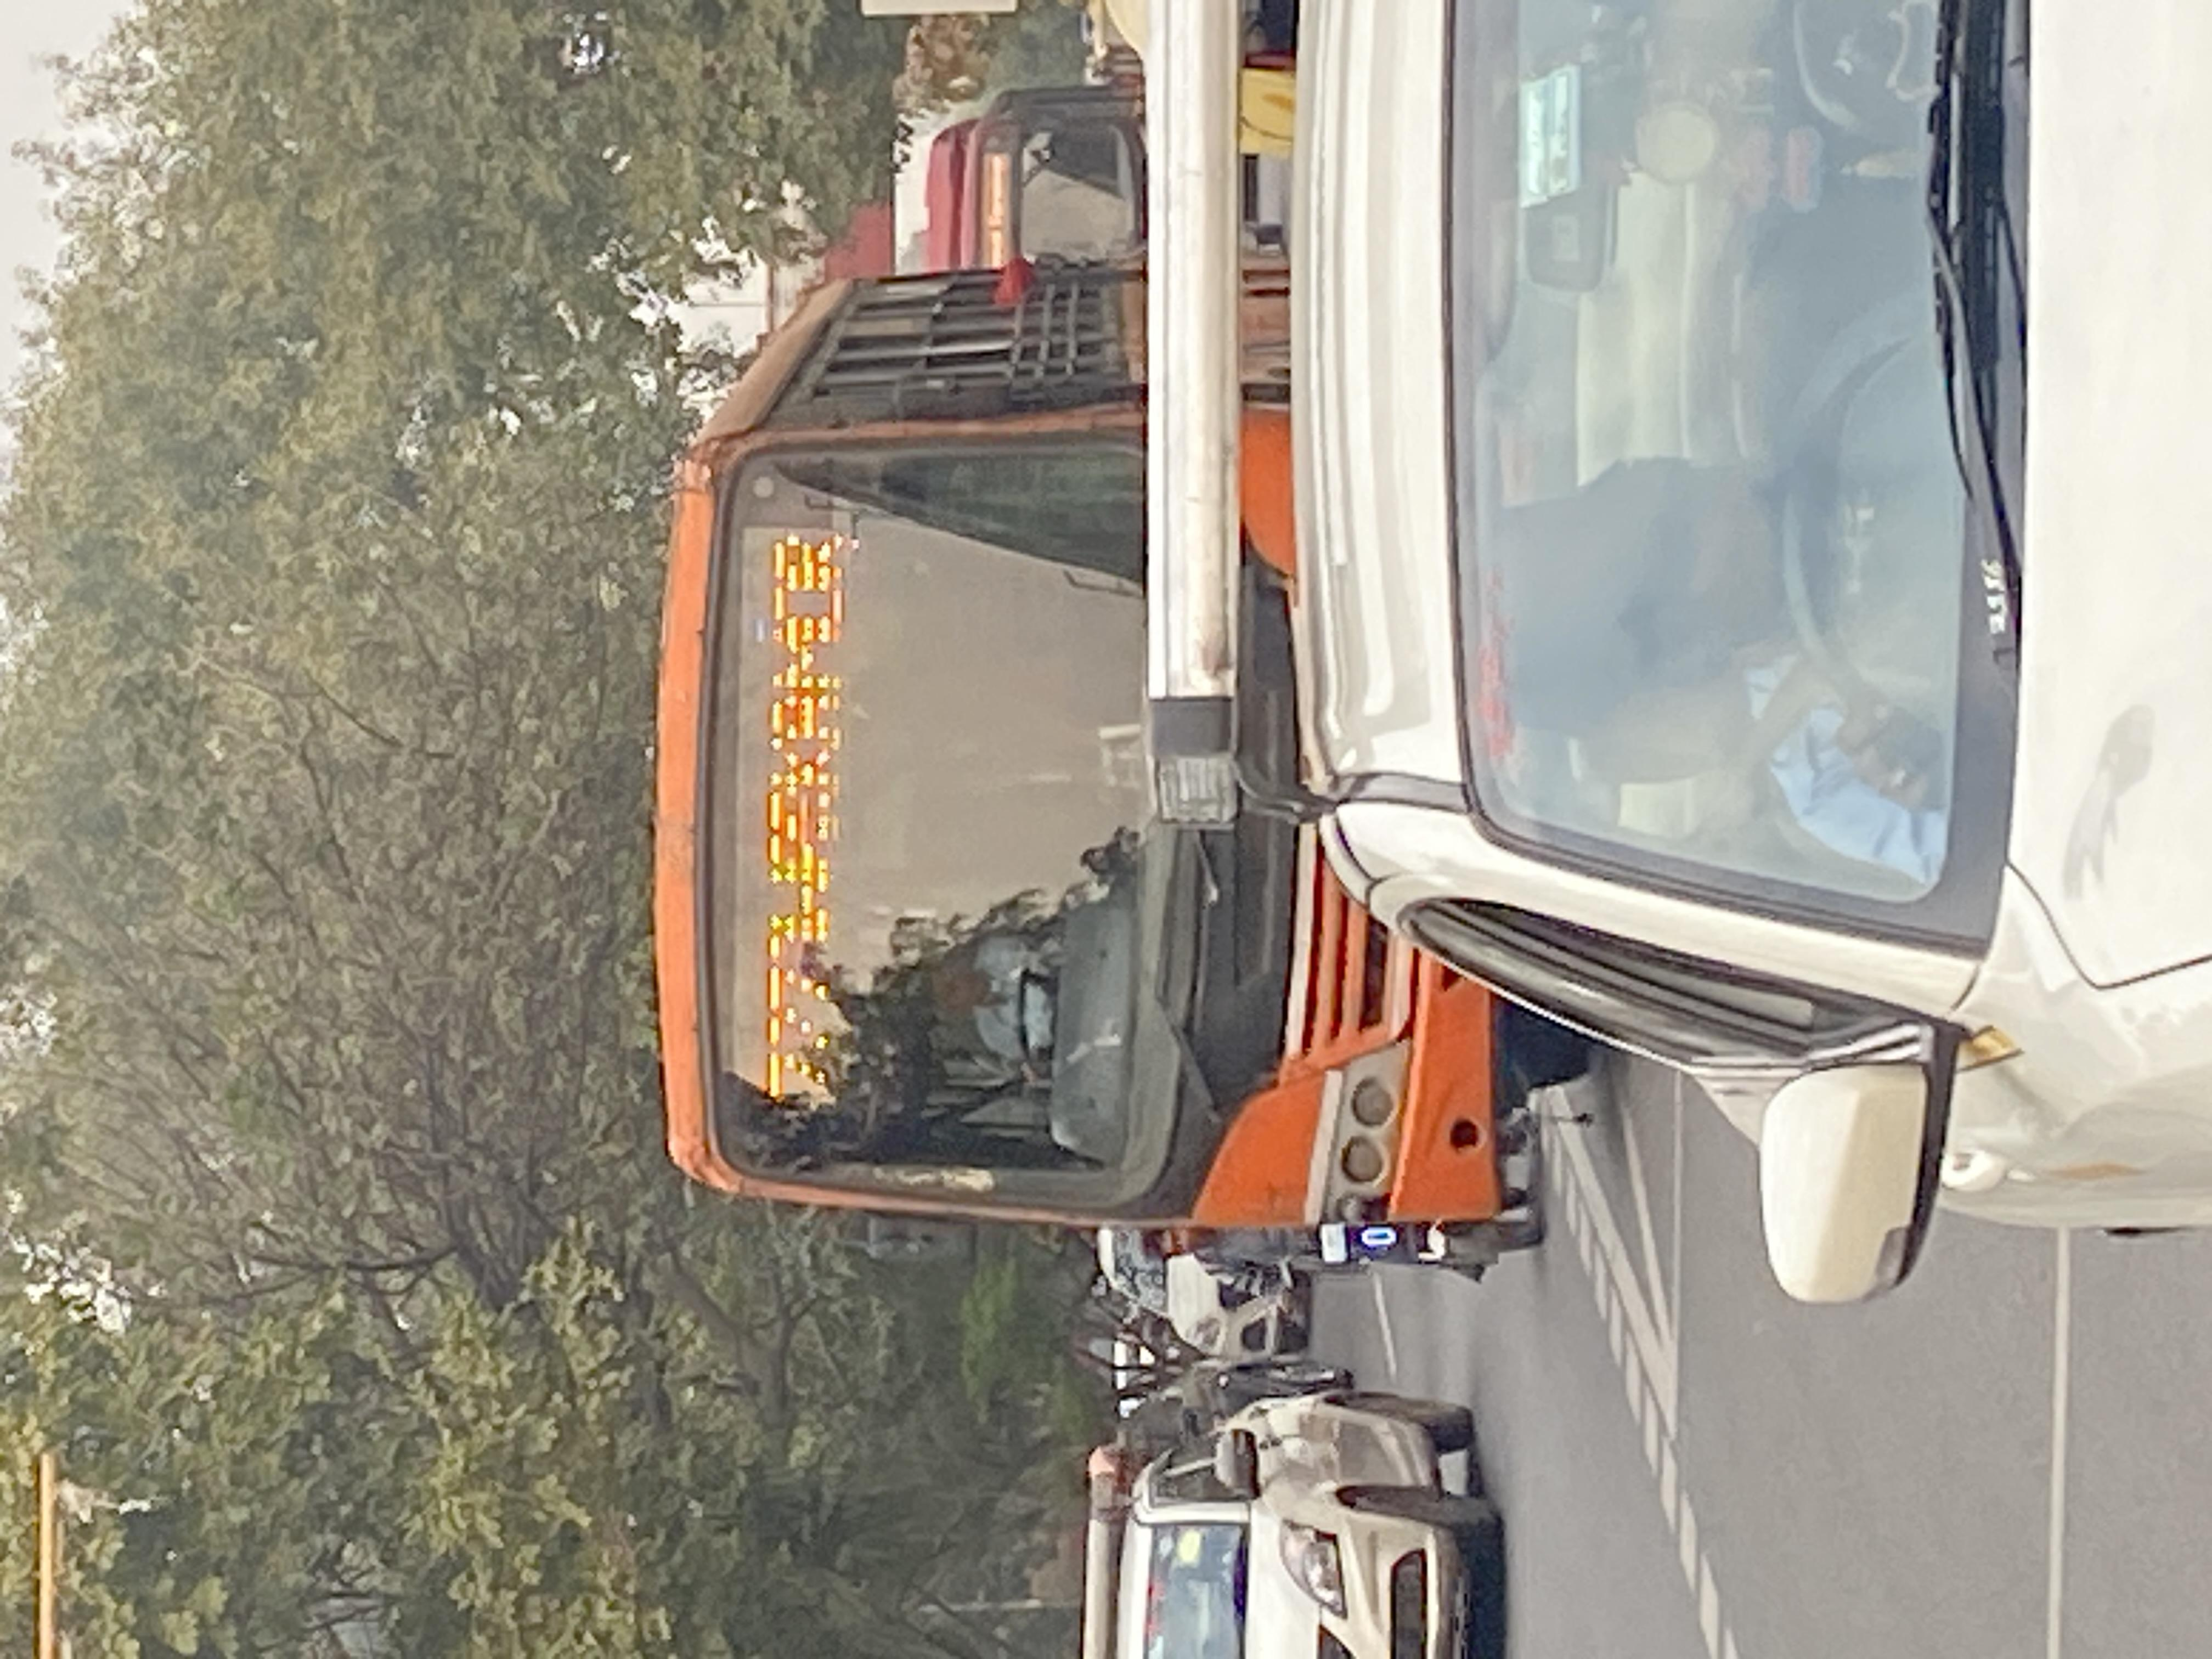Bus: (653, 345, 1602, 1290)
Display Board: (686, 444, 906, 1180)
